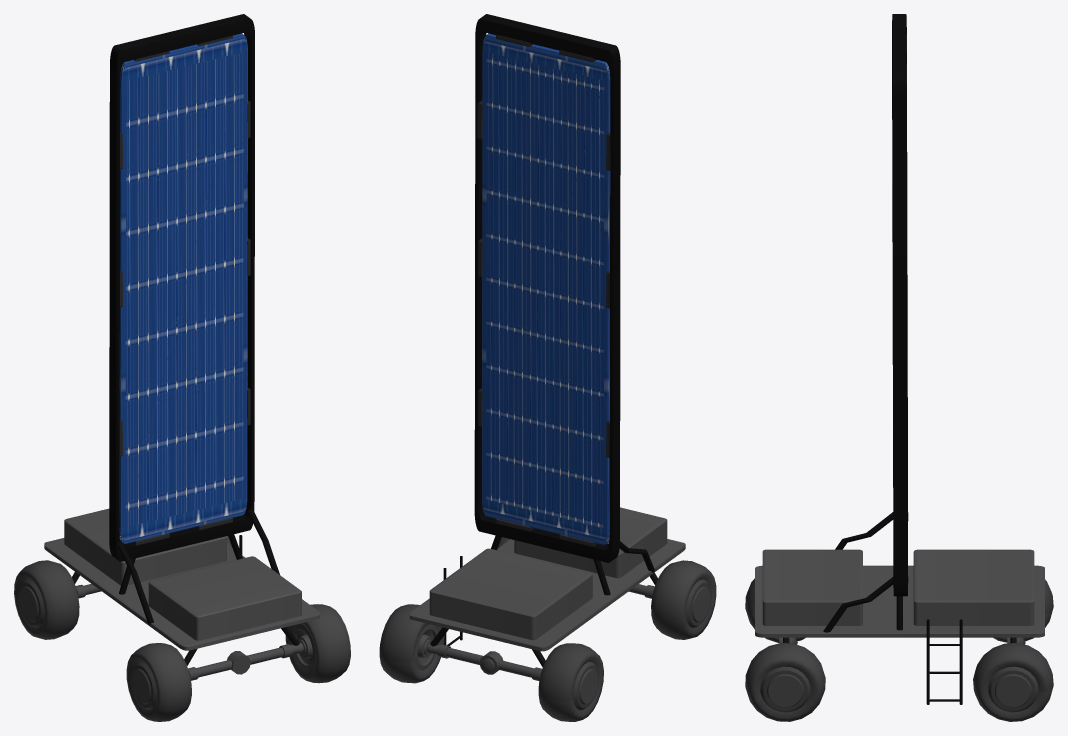
Rendered from backroiver.glb.
The picture shows the model from 3 angles, left to right: view 1: azimuth 30°, elevation 25°; view 2: azimuth 150°, elevation 25°; view 3: azimuth 270°, elevation 25°; orthographic projection.
Visible parts, largest first — view 1: Cube.002, Cube.013, TruckM.063, Cube.001, TruckM.014, Cube.011; view 2: Cube.002, Cube.013, TruckM.063, Cube.001, Cube.011, TruckM.014; view 3: Cube.013, TruckM.063, Cube.001, TruckM.014.
Part boxes in pixels (x1,y1,x2,y2): Cube.002: [119, 33, 247, 543]; Cube.013: [44, 508, 319, 650]; TruckM.063: [14, 536, 350, 721]; Cube.001: [109, 14, 254, 561]; TruckM.014: [117, 509, 279, 624]; Cube.011: [119, 35, 250, 545]; Cube.002: [482, 33, 610, 544]; Cube.013: [409, 507, 685, 651]; TruckM.063: [379, 537, 716, 721]; Cube.001: [474, 14, 620, 562]; Cube.011: [477, 34, 610, 546]; TruckM.014: [443, 535, 654, 645]; Cube.013: [755, 549, 1044, 637]; TruckM.063: [745, 578, 1053, 721]; Cube.001: [892, 14, 908, 596]; TruckM.014: [823, 512, 962, 704].
Size of the model in its own units: 33.94 by 104 by 45.79.
Materials: 7 (7 with a texture image).
